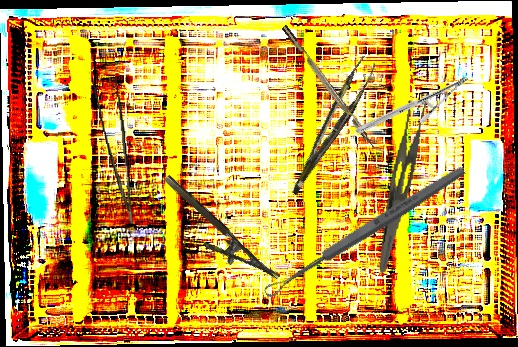Chopper: (281, 20, 387, 157)
Dressing Forceps: (377, 88, 432, 277)
Needle Holder: (149, 173, 281, 298), (354, 42, 470, 168)
Surgical Spoon: (261, 163, 468, 300)
Tissue Forceps: (275, 55, 385, 196), (92, 72, 134, 226)
